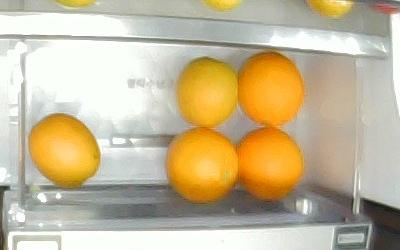orange: (28, 112, 101, 188), (165, 128, 237, 202), (236, 127, 303, 201), (238, 51, 304, 126), (176, 56, 238, 127)
